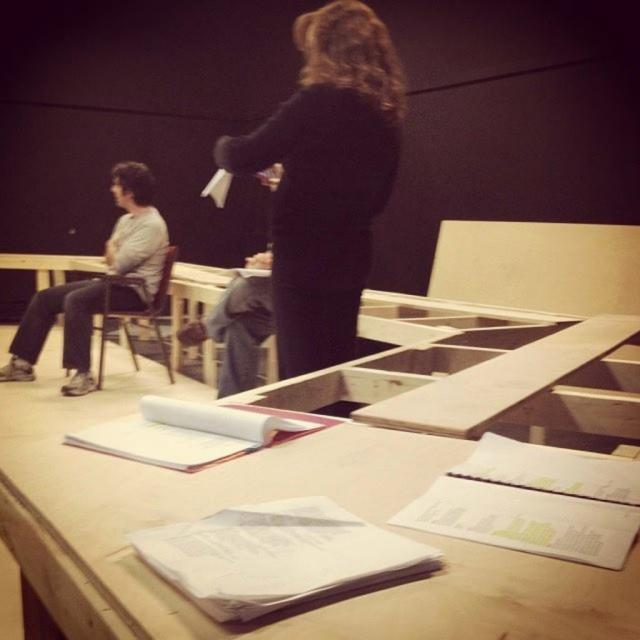chair: (92, 240, 178, 390)
desk: (0, 367, 639, 639)
person: (213, 2, 407, 384), (0, 161, 169, 394)
